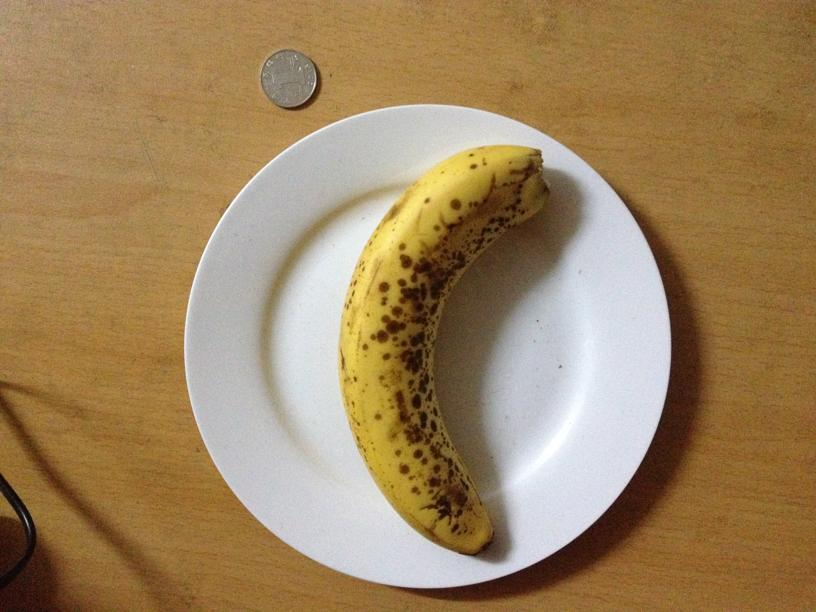banana: (346, 137, 542, 554)
coin: (256, 47, 319, 108)
